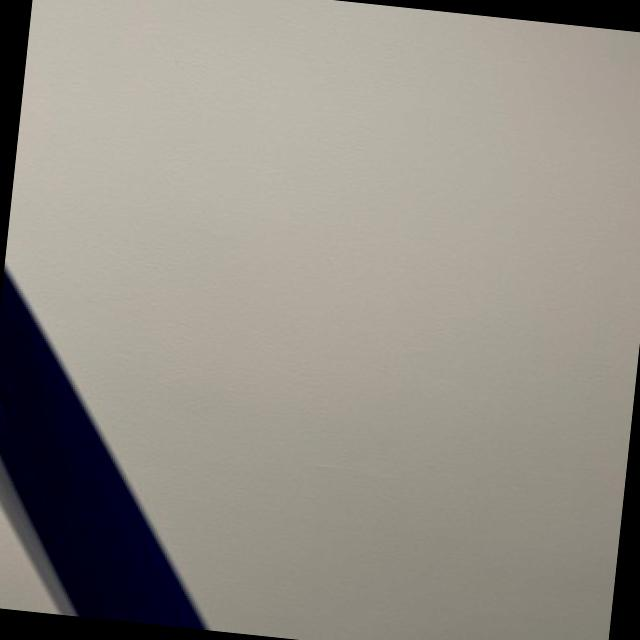healthy: (0, 268, 206, 628)
